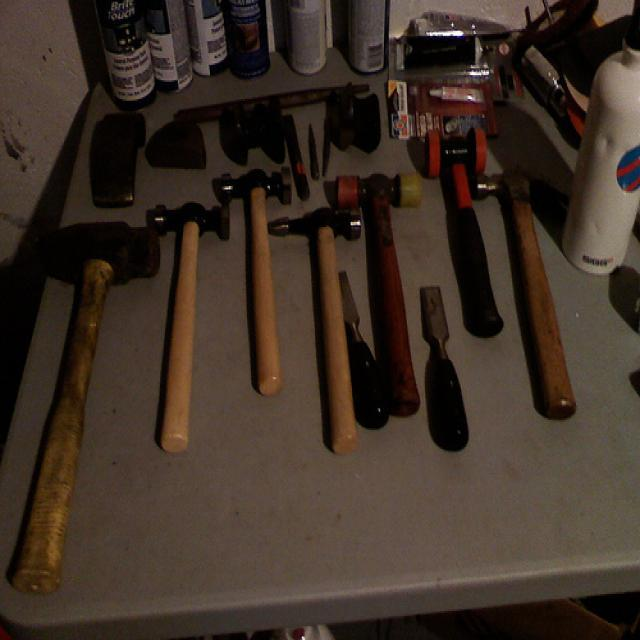hammer: (0, 212, 164, 600), (468, 166, 580, 427), (264, 194, 370, 464), (331, 166, 429, 426), (143, 198, 237, 466), (420, 115, 508, 348), (216, 161, 297, 399)
